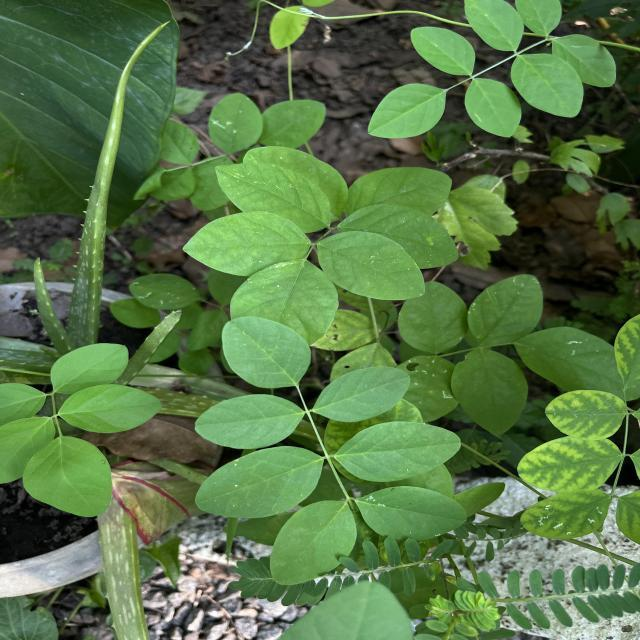Clitoria ternatea: (193, 444, 325, 520), (180, 210, 310, 278), (332, 420, 462, 483), (316, 229, 428, 302), (269, 499, 358, 586), (220, 316, 312, 390), (194, 393, 306, 450), (355, 486, 468, 542), (312, 364, 412, 424)
